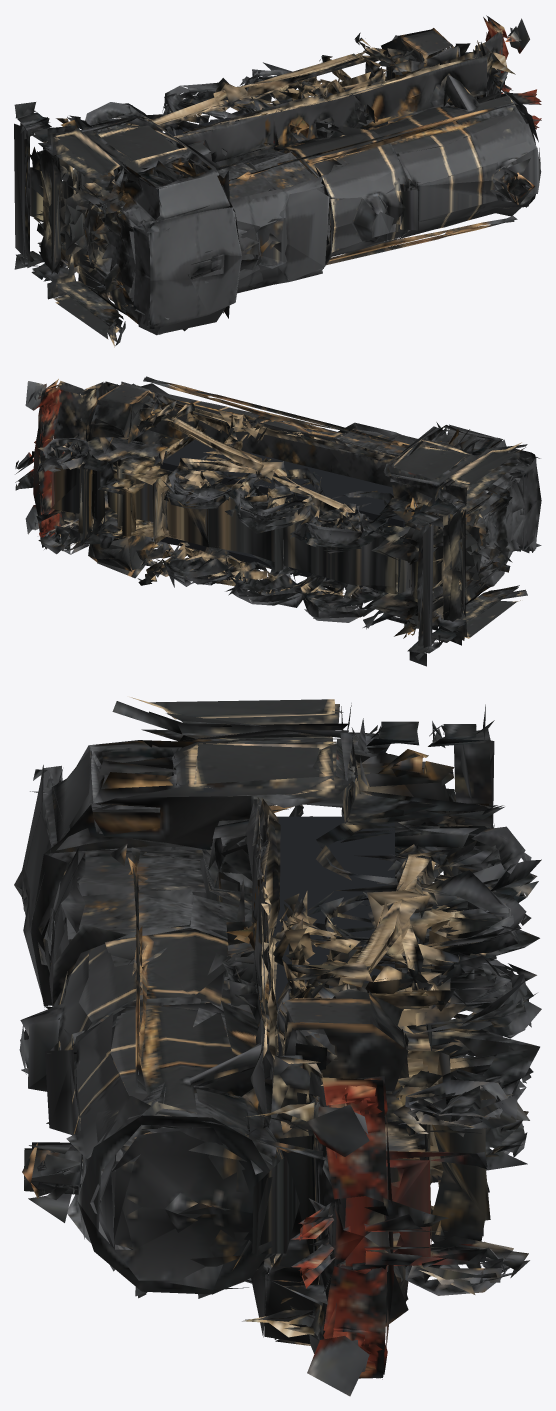
File: black_five_engine_r010.glb
3 renders of one model, top to bottom at view 1: azimuth 30°, elevation 25°; view 2: azimuth 150°, elevation 25°; view 3: azimuth 270°, elevation 25°, orthographic. The views are drawn at different scales.
Parts seen in each view (by area): view 1: part_engine.001; view 2: part_engine.001, skirt_engine.001; view 3: part_engine.001, skirt_engine.001.
Part boxes in pixels (x1=…): part_engine.001: x1=14, y1=15, x2=541, y2=347; part_engine.001: x1=15, y1=376, x2=541, y2=666; skirt_engine.001: x1=160, y1=439, x2=435, y2=593; part_engine.001: x1=14, y1=697, x2=541, y2=1396; skirt_engine.001: x1=274, y1=816, x2=394, y2=1055.
Bounding box in the file's own units: 7.69 × 2.98 × 4.14.
2 materials, 1 textured.
